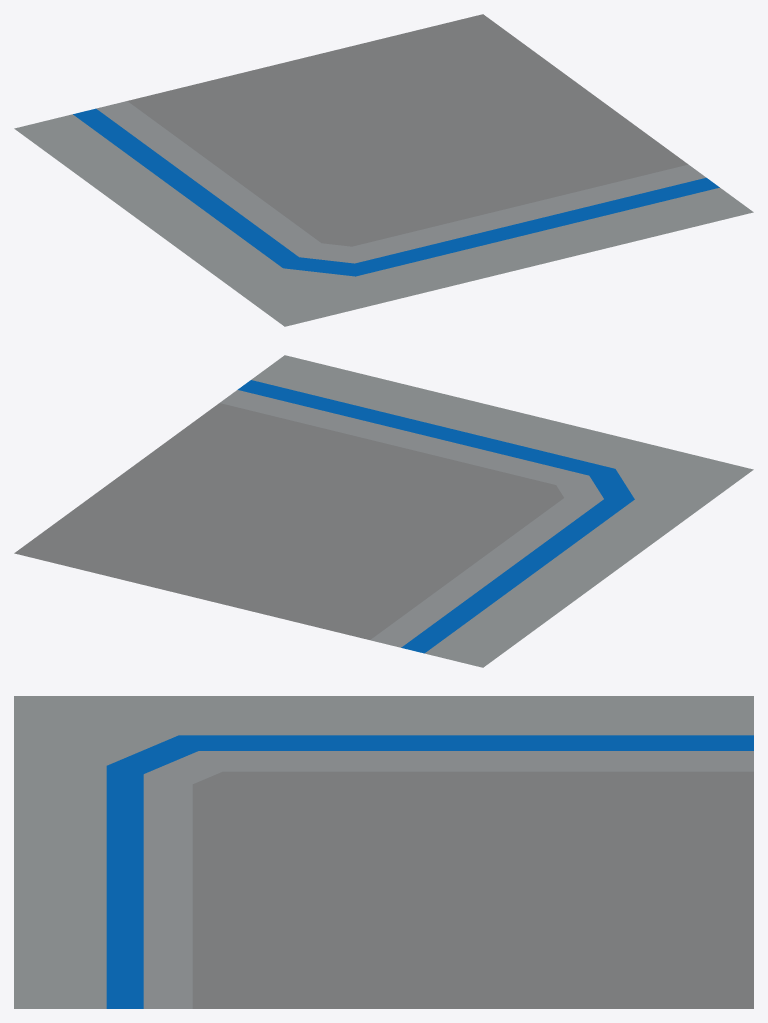
File: Ceiling_type_B_001.fbx
3 renders of one model, top to bottom at view 1: azimuth 30°, elevation 25°; view 2: azimuth 150°, elevation 25°; view 3: azimuth 270°, elevation 25°, orthographic. The views are drawn at different scales.
Visible parts, largest first — view 1: Ceiling_type_B_001; view 2: Ceiling_type_B_001; view 3: Ceiling_type_B_001.
Part boxes in pixels (x1,y1,x2,y2): Ceiling_type_B_001: [14, 14, 753, 326]; Ceiling_type_B_001: [14, 355, 753, 667]; Ceiling_type_B_001: [14, 696, 753, 1008].
Bounding box in the file's own units: 400 × 400 × 4.55.
